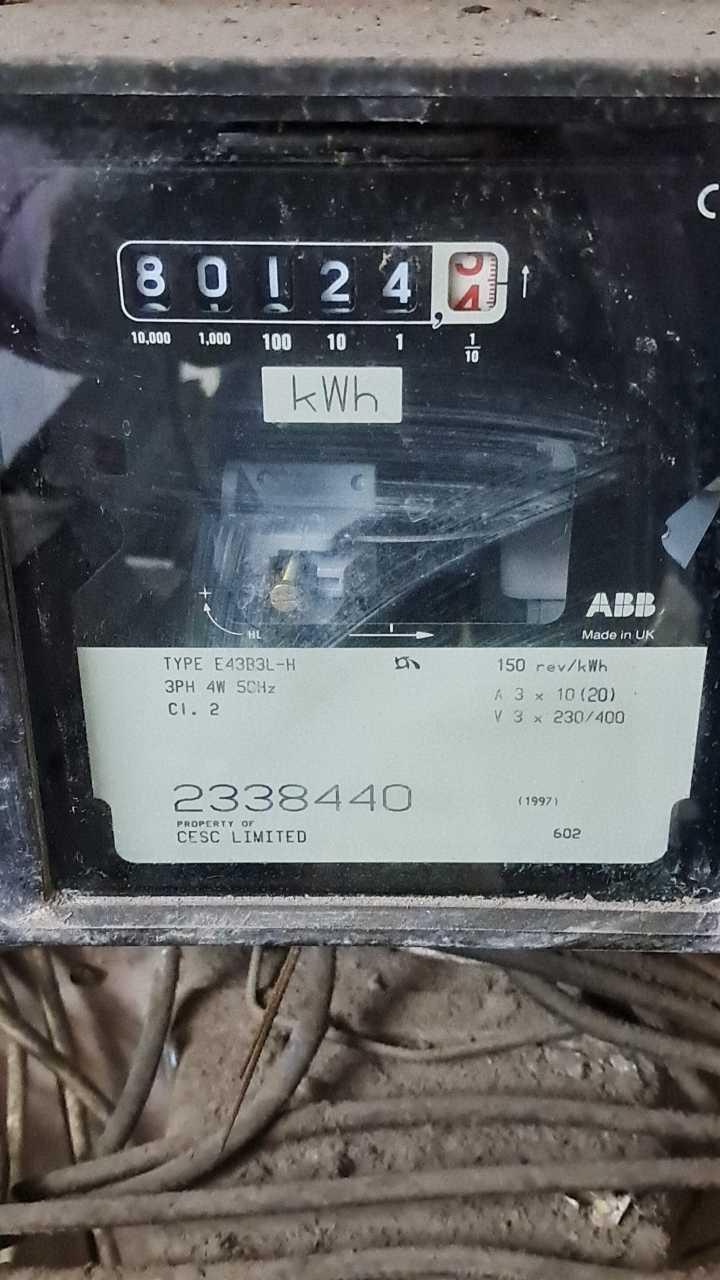meter_readings: (123, 252, 497, 320)
serial_number: (157, 776, 425, 816)
